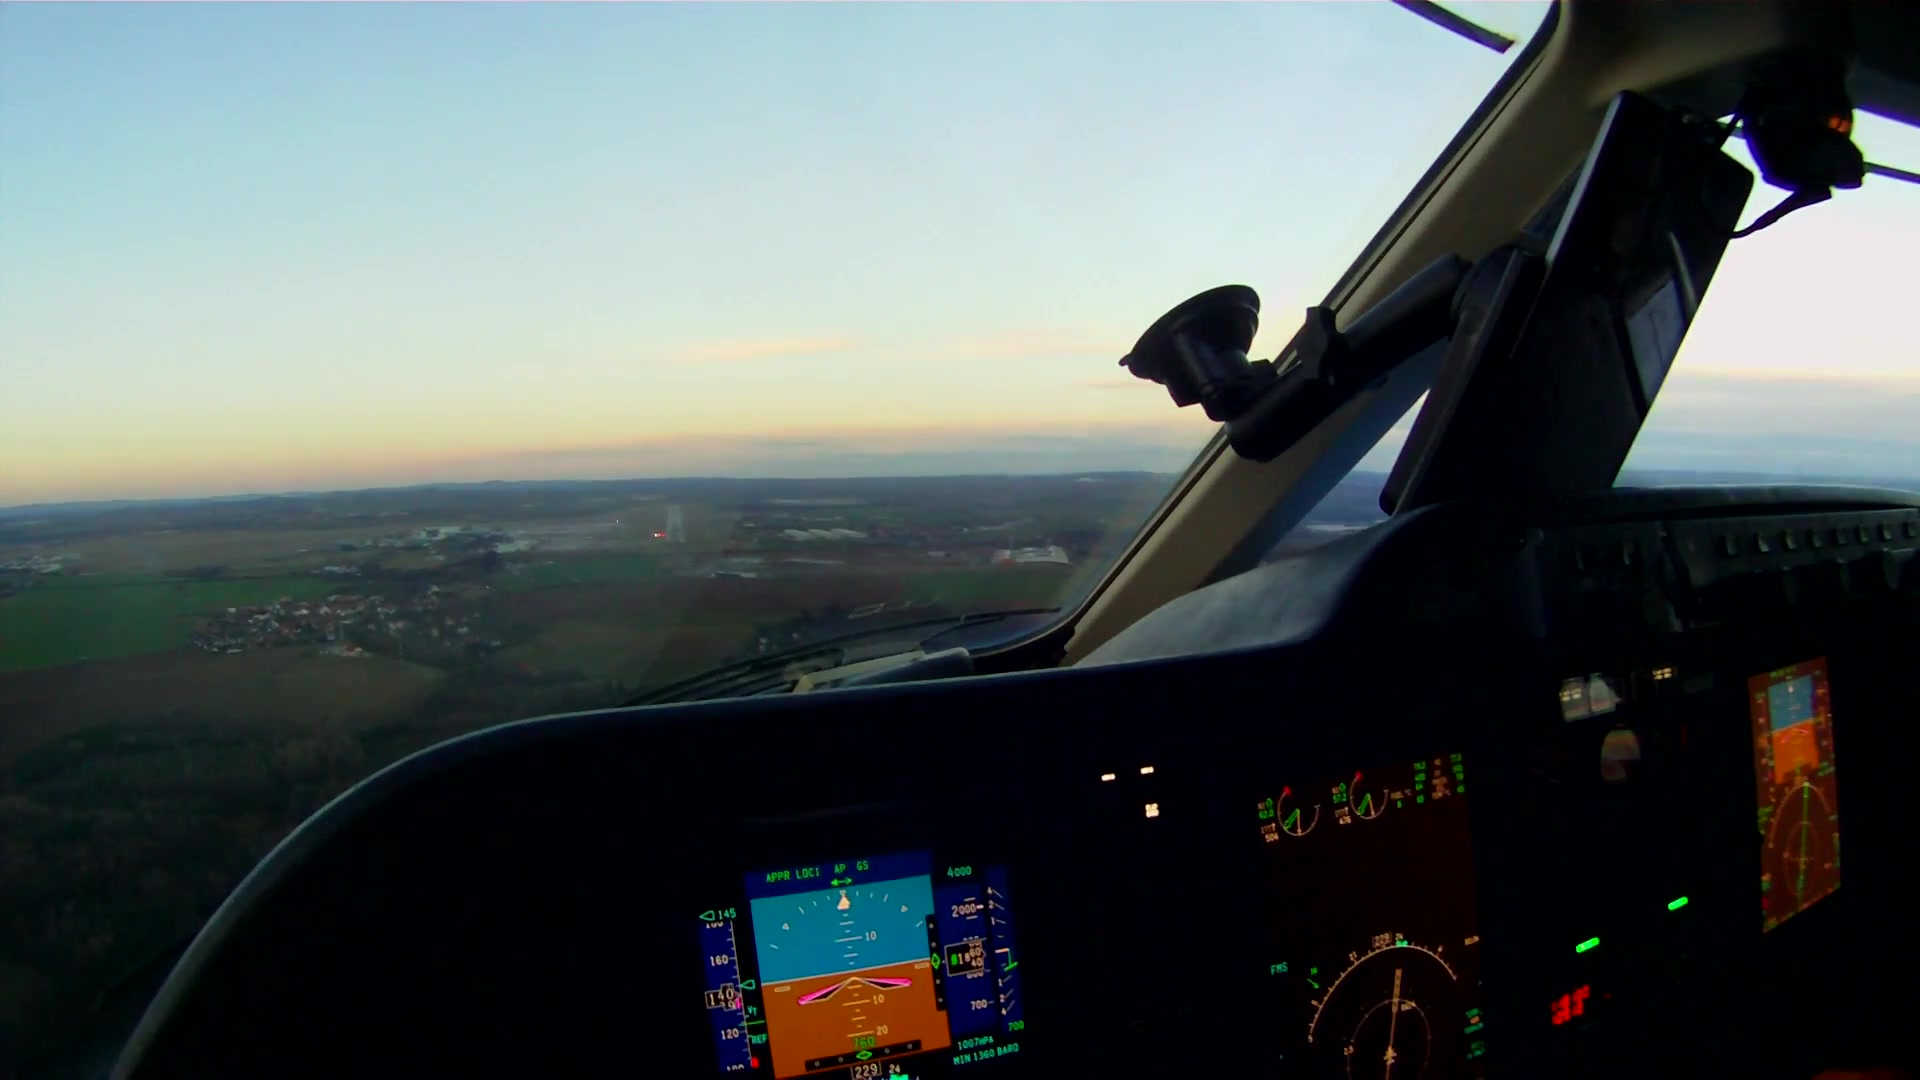runway: (658, 504, 694, 545)
